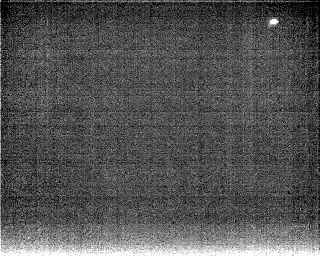AIRPLANE: (267, 16, 280, 28)
